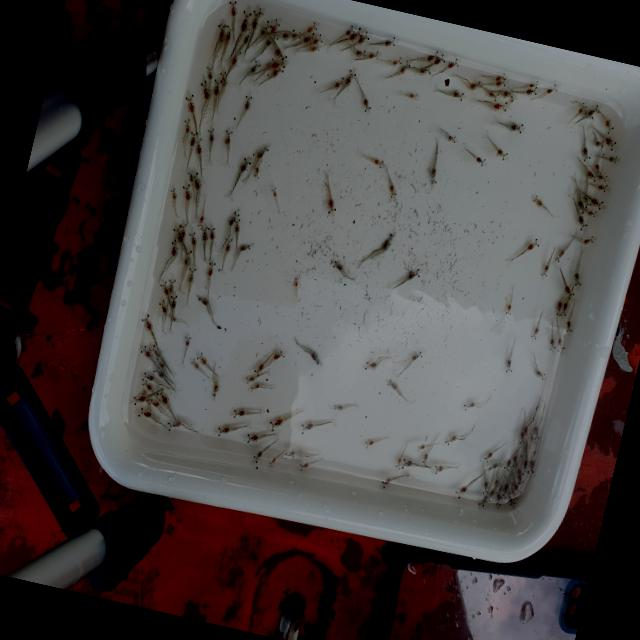babyshrimp: (156, 235, 178, 278), (247, 4, 265, 27), (239, 1, 252, 32), (265, 411, 285, 430), (254, 138, 272, 157), (379, 231, 395, 252), (341, 65, 356, 87), (269, 55, 289, 71), (199, 71, 208, 106), (163, 416, 182, 432), (257, 17, 272, 37), (184, 87, 195, 114), (241, 23, 254, 45), (238, 153, 251, 175), (185, 262, 197, 285), (498, 480, 509, 505), (173, 219, 184, 244), (216, 16, 227, 41), (451, 485, 469, 500), (270, 61, 284, 80), (156, 383, 168, 405), (182, 242, 192, 268), (191, 166, 201, 192), (429, 52, 445, 68), (396, 57, 411, 74), (518, 422, 529, 445), (182, 178, 193, 201), (377, 473, 391, 491), (272, 43, 286, 61), (505, 120, 526, 132), (250, 3, 260, 28), (428, 162, 438, 187), (222, 126, 233, 148), (503, 354, 513, 378), (298, 419, 313, 435), (229, 405, 245, 420), (230, 47, 242, 67), (347, 25, 362, 41), (242, 429, 259, 443), (247, 57, 261, 74), (306, 18, 320, 35), (219, 66, 228, 92), (224, 209, 237, 227), (252, 359, 264, 378), (128, 392, 147, 404), (429, 460, 444, 475), (442, 432, 457, 447), (307, 32, 323, 46), (355, 30, 369, 46), (553, 245, 567, 261), (396, 456, 413, 469), (135, 405, 152, 418), (544, 79, 557, 96), (587, 196, 604, 209), (143, 311, 153, 333), (157, 296, 168, 316), (269, 16, 281, 34), (360, 96, 372, 114), (576, 212, 588, 230), (509, 483, 519, 504), (480, 476, 490, 497), (295, 457, 310, 471), (151, 363, 165, 378), (212, 72, 220, 98), (490, 99, 507, 111), (576, 99, 588, 116), (188, 226, 198, 246), (188, 126, 198, 146), (223, 26, 232, 48), (580, 191, 591, 209), (326, 196, 337, 214), (411, 347, 425, 361), (273, 345, 287, 359), (388, 53, 402, 67), (446, 56, 460, 70), (195, 291, 208, 306), (330, 75, 345, 88), (451, 88, 466, 101), (583, 168, 598, 181), (525, 237, 540, 250), (281, 446, 297, 458), (243, 372, 259, 384), (169, 290, 177, 314), (178, 219, 186, 243), (252, 164, 260, 188), (415, 63, 431, 75), (563, 283, 575, 299), (529, 323, 539, 342), (519, 457, 529, 476), (159, 277, 169, 296), (196, 211, 206, 230), (277, 31, 296, 41), (222, 236, 233, 253), (300, 32, 314, 45), (343, 22, 356, 36), (496, 146, 509, 160), (407, 266, 420, 280), (370, 156, 384, 169), (250, 448, 262, 463), (196, 349, 208, 364), (148, 340, 160, 355), (167, 271, 176, 291), (208, 220, 217, 240), (229, 0, 238, 20), (424, 50, 439, 62), (603, 117, 615, 132), (604, 135, 616, 150), (571, 270, 581, 288), (311, 348, 322, 364), (139, 342, 150, 358), (243, 92, 252, 111), (581, 145, 591, 162), (586, 103, 599, 116), (363, 358, 377, 370), (353, 47, 367, 59), (486, 89, 500, 101), (532, 193, 544, 207), (155, 356, 166, 371), (558, 300, 569, 315), (526, 457, 535, 475), (516, 466, 525, 484), (420, 451, 429, 469), (206, 61, 213, 84), (218, 24, 226, 44), (386, 182, 396, 198), (412, 440, 424, 453), (387, 378, 399, 391), (248, 380, 260, 393), (141, 377, 154, 389), (383, 36, 396, 48), (576, 198, 588, 211), (481, 450, 492, 464), (215, 425, 229, 436), (208, 123, 215, 145), (288, 29, 302, 40), (503, 455, 512, 472), (211, 382, 220, 399), (556, 334, 565, 351), (506, 493, 516, 508), (478, 493, 488, 508), (266, 454, 276, 469), (155, 345, 165, 360), (169, 183, 179, 198), (201, 221, 208, 242), (533, 368, 545, 380), (263, 37, 275, 49), (365, 50, 381, 59), (523, 85, 539, 94), (463, 400, 476, 411), (469, 79, 482, 90), (190, 355, 200, 369), (265, 56, 275, 70), (499, 88, 513, 98), (510, 451, 518, 468), (512, 476, 520, 493), (141, 385, 149, 402), (207, 258, 215, 275), (486, 487, 495, 502), (530, 324, 539, 339), (492, 476, 499, 495), (362, 437, 374, 448), (475, 153, 486, 165), (332, 259, 344, 270), (518, 430, 526, 446), (393, 456, 401, 472), (495, 489, 502, 507), (195, 136, 202, 154), (239, 241, 253, 250), (540, 262, 549, 276), (582, 107, 593, 118), (504, 301, 512, 316), (307, 43, 319, 53), (184, 117, 191, 134), (331, 401, 344, 410), (406, 90, 419, 99), (234, 215, 241, 231), (593, 163, 601, 177), (564, 318, 572, 332), (447, 133, 457, 144), (528, 79, 538, 90), (583, 234, 594, 244), (162, 299, 168, 317), (188, 165, 194, 183), (494, 77, 506, 86), (596, 172, 608, 181), (555, 299, 562, 314), (184, 332, 192, 345), (141, 370, 154, 378), (549, 337, 557, 350), (149, 396, 159, 406), (488, 461, 499, 470), (597, 182, 608, 191), (168, 312, 176, 324), (493, 71, 504, 79), (401, 470, 410, 479), (607, 154, 617, 162), (586, 209, 596, 217), (271, 184, 277, 197), (593, 139, 604, 146), (529, 433, 535, 445), (509, 92, 517, 101), (293, 274, 299, 286), (533, 424, 538, 435)
